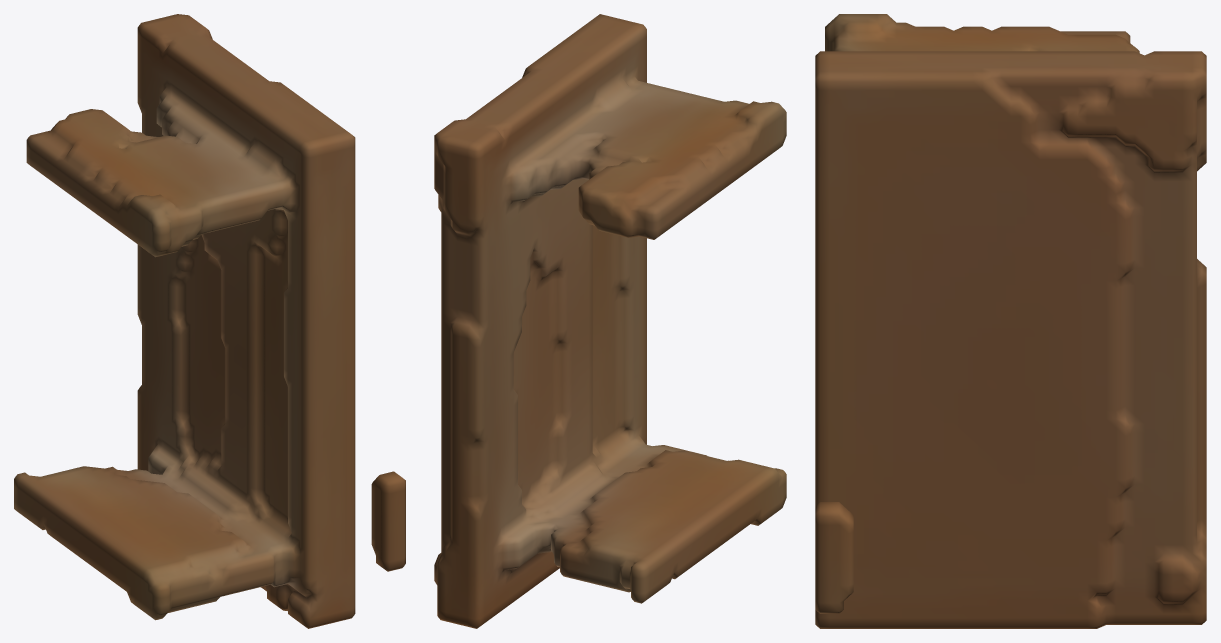
Rendered from A brown wooden table with a rectangular top, but t.glb.
3 views of the same model, side by side, from view 1: azimuth 30°, elevation 25°; view 2: azimuth 150°, elevation 25°; view 3: azimuth 270°, elevation 25° (orthographic). The views are drawn at different scales.
Parts seen in each view (by area): view 1: A brown wooden table with a rectangular top, but t; view 2: A brown wooden table with a rectangular top, but t; view 3: A brown wooden table with a rectangular top, but t.
Boxes of the visible parts, x1,y1,x2,y2 form: A brown wooden table with a rectangular top, but t: (14,14,405,628); A brown wooden table with a rectangular top, but t: (434,14,786,628); A brown wooden table with a rectangular top, but t: (815,14,1206,628).
Bounding box in the file's own units: 34 × 64 × 41.
